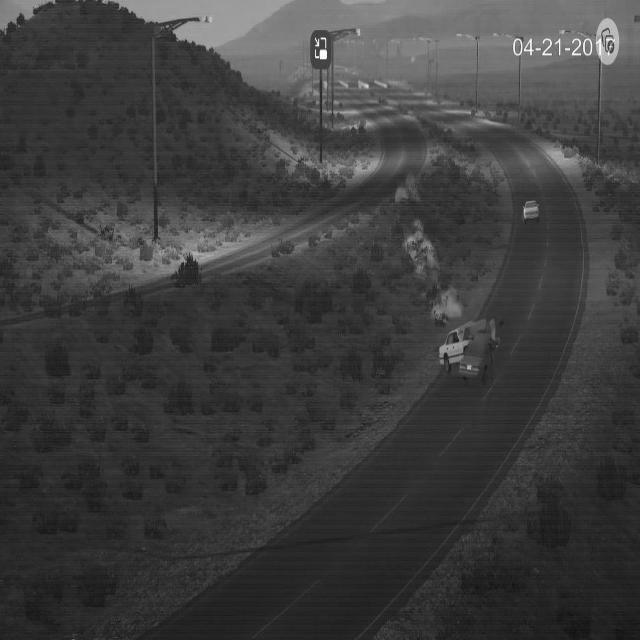accident: (437, 316, 505, 393)
vehicle: (517, 188, 545, 232)
